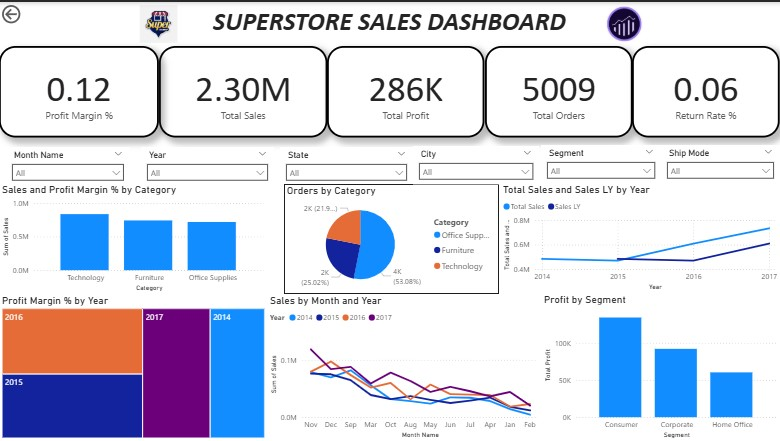

What the dashboard file says about the page in this screenshot:
{"tool":"powerbi","page":{"name":"OVERVIE","canvas":[1280,720],"ordinal":0},"visuals":[{"type":"textbox","box":[0,0,1280,72],"z":0},{"type":"card","fields":{"Values":["Orders.Total Sales"]},"box":[262,72,276,150],"z":1000},{"type":"actionButton","box":[0,0,100,40],"z":2000},{"type":"card","fields":{"Values":["Orders.Total Profit"]},"box":[538,72,258,150],"z":3000},{"type":"card","fields":{"Values":["Orders.Profit Margin %"]},"box":[0,72,262,150],"z":4000},{"type":"card","fields":{"Values":["Orders.Total Orders"]},"box":[796,72,242,150],"z":5000},{"type":"card","fields":{"Values":["Returns.Return Rate %"]},"box":[1038,72,242,150],"z":6000},{"type":"lineChart","title":"Sales by Month and Year","fields":{"Category":["Date.Month Name"],"Y":["Sum(Orders.Sales)"],"Series":["Date.Year"]},"box":[439.2,478.6,449.1,240.9],"z":8000},{"type":"columnChart","title":"Sales and Profit Margin % by Category","fields":{"Category":["Orders.Category"],"Y":["Sum(Orders.Sales)"]},"box":[0,296.6,439.2,181.9],"z":9000},{"type":"columnChart","title":"Profit by Segment","fields":{"Category":["Orders.Segment"],"Y":["Orders.Total Profit"]},"box":[888.3,476.9,391.7,242.6],"z":10000},{"type":"pieChart","title":"Orders by Category","fields":{"Y":["Orders.Total Orders"],"Category":["Orders.Category"]},"box":[466.7,298.3,353.3,180],"z":11000},{"type":"slicer","fields":{"Values":["Date.Year"]},"box":[233.3,238.3,218.3,61.7],"z":12000},{"type":"slicer","fields":{"Values":["Orders.City"]},"box":[678.3,236.7,206.7,63.3],"z":13000},{"type":"slicer","fields":{"Values":["Orders.Segment"]},"box":[888.3,235,196.7,66.7],"z":14000},{"type":"slicer","fields":{"Values":["Date.Month Name"]},"box":[11.7,238.3,203.3,60],"z":15000},{"type":"slicer","fields":{"Values":["Orders.State"]},"box":[460,238.3,218.3,58.3],"z":16000},{"type":"slicer","fields":{"Values":["Orders.Ship Mode"]},"box":[1085,235,195,61.7],"z":18000},{"type":"lineChart","fields":{"Y":["Orders.Total Sales","Orders.Sales LY"],"Category":["Date.Year"]},"box":[821.1,296.6,458.9,180.3],"z":18001},{"type":"treemap","fields":{"Group":["Date.Year"],"Values":["Orders.Profit Margin %"]},"box":[0,479,440,241],"z":18002},{"type":"image","box":[965.3,0,119.6,72.1],"z":18004},{"type":"image","box":[201.6,0,119.6,72.1],"z":18005}]}

Visuals, with their boxes in screenshot pixels (x1, y1, x2, y2), scaled from the page's 1280x720 canvas onto the 780x441 screenshot:
textbox: Rect(0, 0, 779, 44)
card - Orders.Total Sales: Rect(160, 44, 328, 136)
actionButton: Rect(0, 0, 61, 24)
card - Orders.Total Profit: Rect(328, 44, 485, 136)
card - Orders.Profit Margin %: Rect(0, 44, 160, 136)
card - Orders.Total Orders: Rect(485, 44, 633, 136)
card - Returns.Return Rate %: Rect(633, 44, 779, 136)
"Sales by Month and Year" lineChart: Rect(268, 293, 541, 440)
"Sales and Profit Margin % by Category" columnChart: Rect(0, 182, 268, 293)
"Profit by Segment" columnChart: Rect(541, 292, 779, 440)
"Orders by Category" pieChart: Rect(284, 183, 500, 293)
slicer - Date.Year: Rect(142, 146, 275, 184)
slicer - Orders.City: Rect(413, 145, 539, 184)
slicer - Orders.Segment: Rect(541, 144, 661, 185)
slicer - Date.Month Name: Rect(7, 146, 131, 183)
slicer - Orders.State: Rect(280, 146, 413, 182)
slicer - Orders.Ship Mode: Rect(661, 144, 779, 182)
lineChart - Orders.Total Sales x Orders.Sales LY: Rect(500, 182, 779, 292)
treemap - Date.Year x Orders.Profit Margin %: Rect(0, 293, 268, 440)
image: Rect(588, 0, 661, 44)
image: Rect(123, 0, 196, 44)
